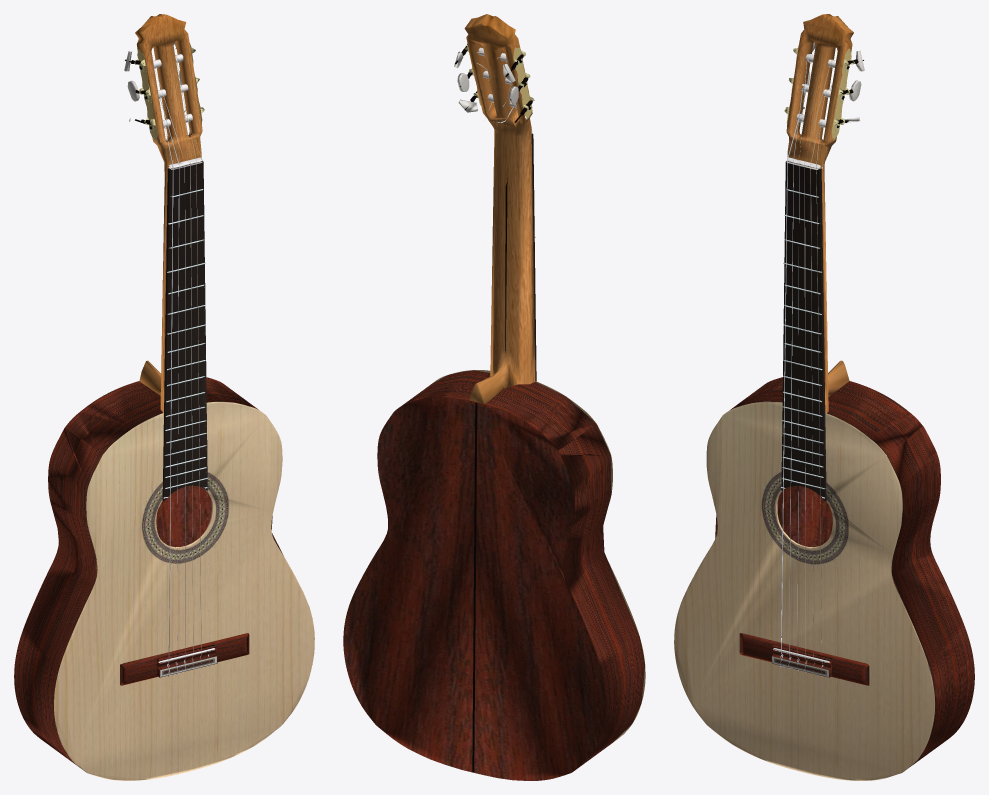
Rendered from classical-guitar.glb.
3 renders of one model, left to right at view 1: azimuth 30°, elevation 25°; view 2: azimuth 150°, elevation 25°; view 3: azimuth 330°, elevation 25°, orthographic.
Parts seen in each view (by area): view 1: guitar body_0, guitar body_1, fret board_0, neck_0, bridge top_0, frets_0, E6 string_0, B2 string_0, G3 string_0, D4 string_0, machine head base_L_0; view 2: guitar body_1, neck_0, black strip body_0, machine head base_L_3, guitar body_0; view 3: guitar body_0, guitar body_1, fret board_0, neck_0, bridge top_0, frets_0, E6 string_0, A5 string_0, G3 string_0, machine head base_L_0, E1 string_0.
Part boxes in pixels (x1=…): guitar body_0: x1=54, y1=401, x2=314, y2=780; guitar body_1: x1=14, y1=377, x2=282, y2=767; fret board_0: x1=162, y1=161, x2=207, y2=501; neck_0: x1=135, y1=14, x2=202, y2=417; bridge top_0: x1=120, y1=633, x2=249, y2=685; frets_0: x1=153, y1=54, x2=214, y2=663; E6 string_0: x1=162, y1=120, x2=173, y2=676; B2 string_0: x1=178, y1=75, x2=201, y2=667; G3 string_0: x1=175, y1=55, x2=193, y2=670; D4 string_0: x1=153, y1=60, x2=185, y2=672; machine head base_L_0: x1=137, y1=43, x2=202, y2=139; guitar body_1: x1=343, y1=370, x2=644, y2=780; neck_0: x1=464, y1=14, x2=535, y2=404; black strip body_0: x1=455, y1=44, x2=534, y2=772; machine head base_L_3: x1=454, y1=51, x2=527, y2=119; guitar body_0: x1=433, y1=370, x2=645, y2=742; guitar body_0: x1=674, y1=401, x2=934, y2=780; guitar body_1: x1=714, y1=377, x2=974, y2=766; fret board_0: x1=781, y1=161, x2=826, y2=501; neck_0: x1=786, y1=14, x2=853, y2=413; bridge top_0: x1=739, y1=633, x2=869, y2=685; frets_0: x1=773, y1=54, x2=835, y2=662; E6 string_0: x1=780, y1=113, x2=803, y2=667; A5 string_0: x1=788, y1=83, x2=807, y2=669; G3 string_0: x1=804, y1=59, x2=834, y2=672; machine head base_L_0: x1=786, y1=45, x2=851, y2=139; E1 string_0: x1=816, y1=119, x2=824, y2=676.
Bounding box in the file's own units: 0.4297 × 1.16 × 0.1296.
11 materials, 10 textured.
